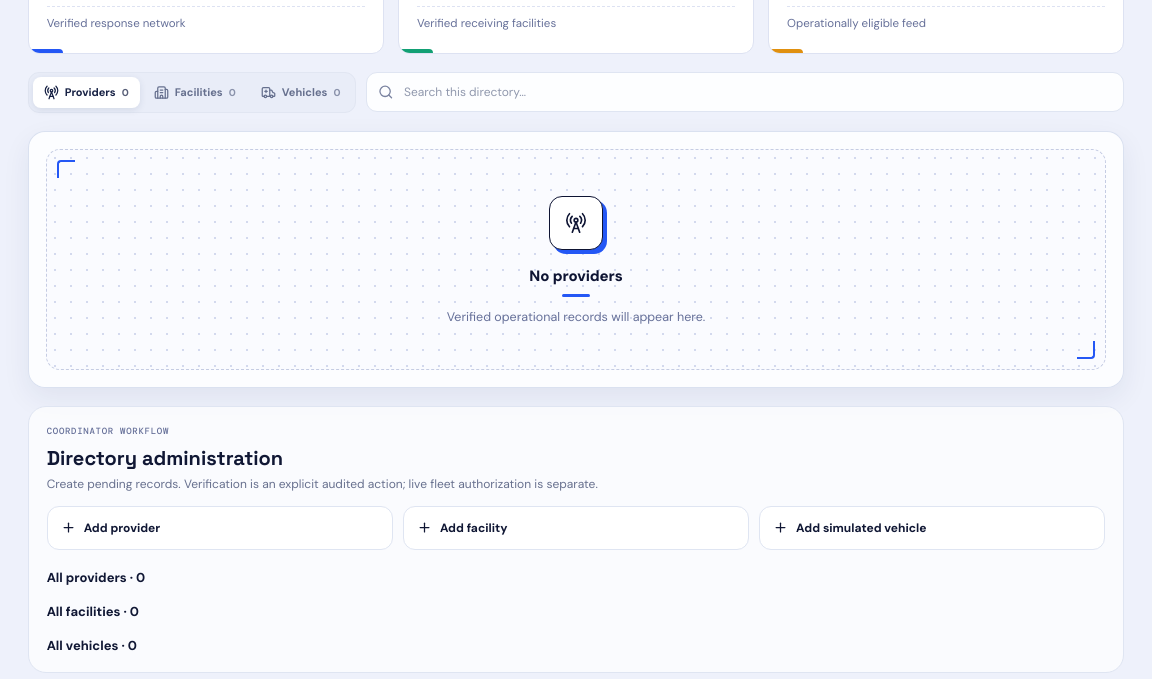
Scenario: ServicesPage directory administration › allows coordinators to create a provider as pending, never pre-verified
The width and height of the screenshot is (1152, 679).
(page scrolled)
Click the heading "Add provider": (110, 528) [61,520,160,536]
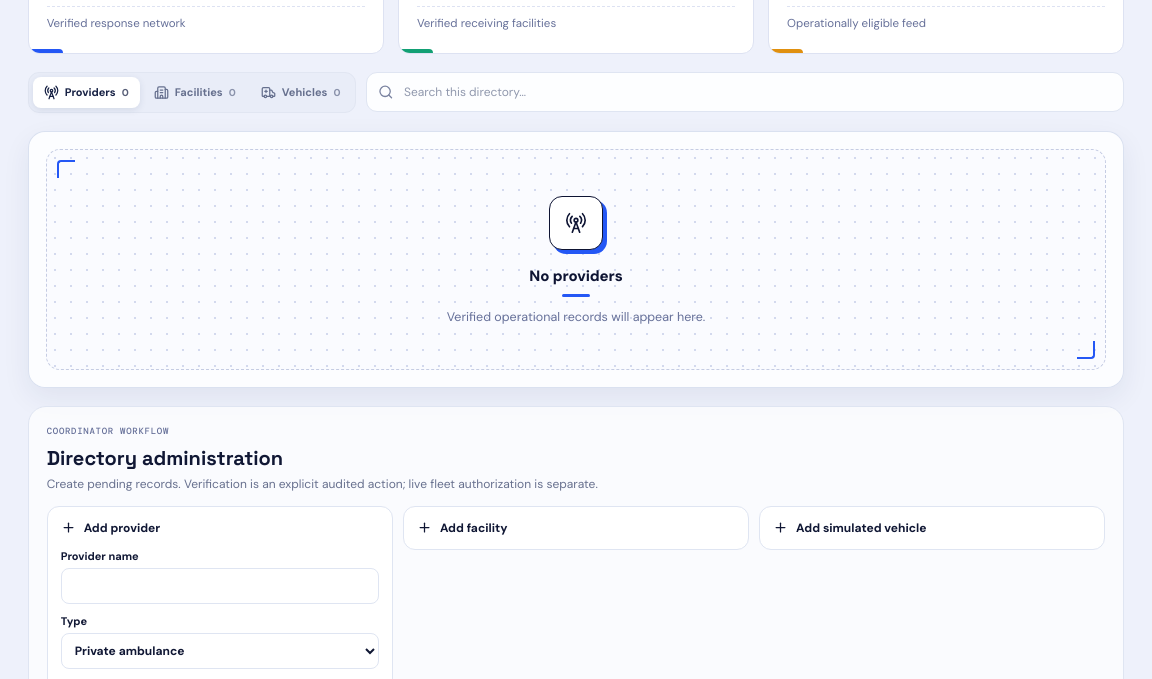
In the field labelled "Provider name": (220, 586) [61,568,379,604], type "Accra Response"
(page scrolled)
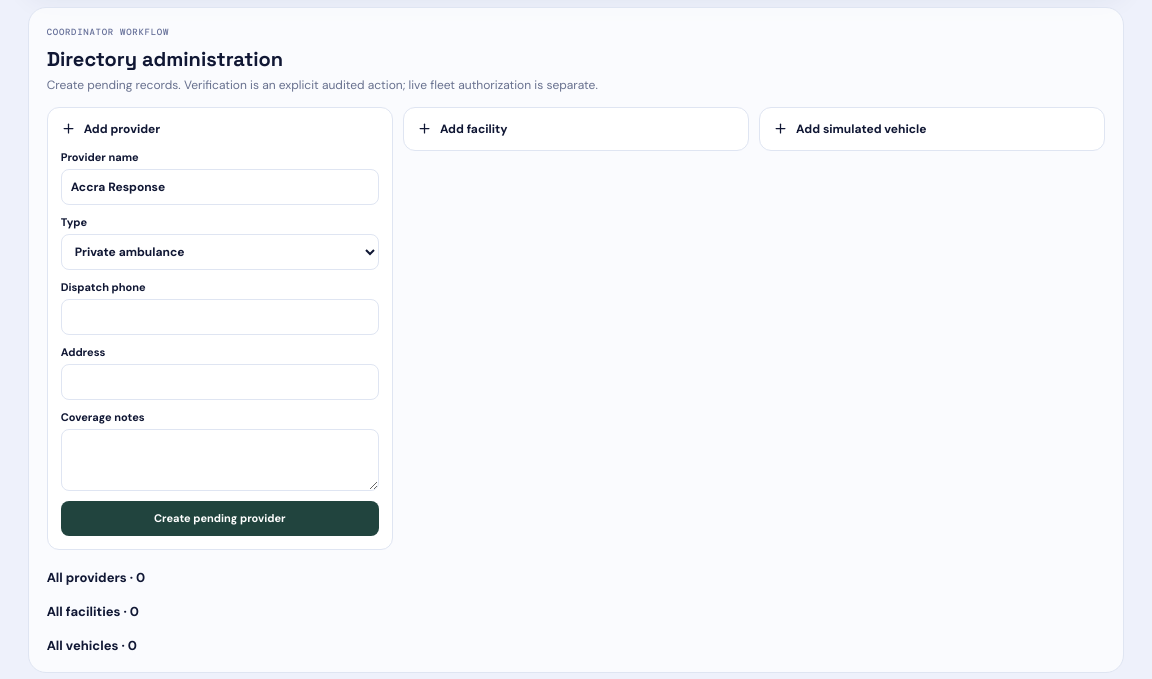
Click the button "Create pending provider": (220, 518) [61,501,379,536]
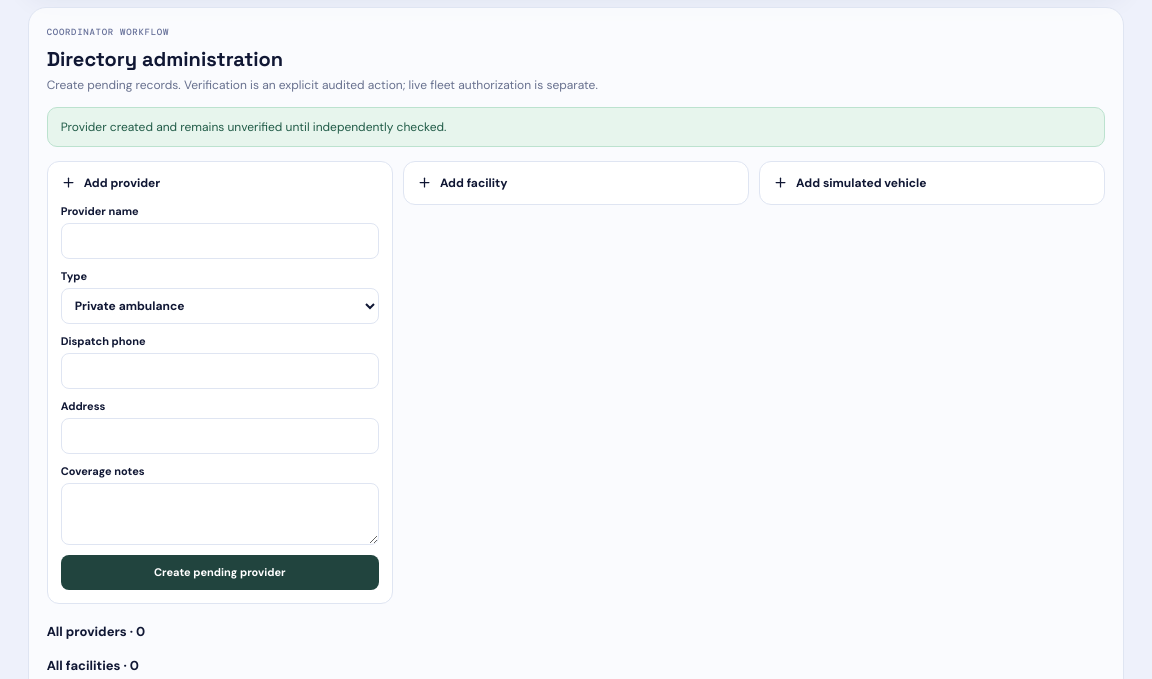
expect the message shows "remains unverified": met, box [61,119,446,135]
